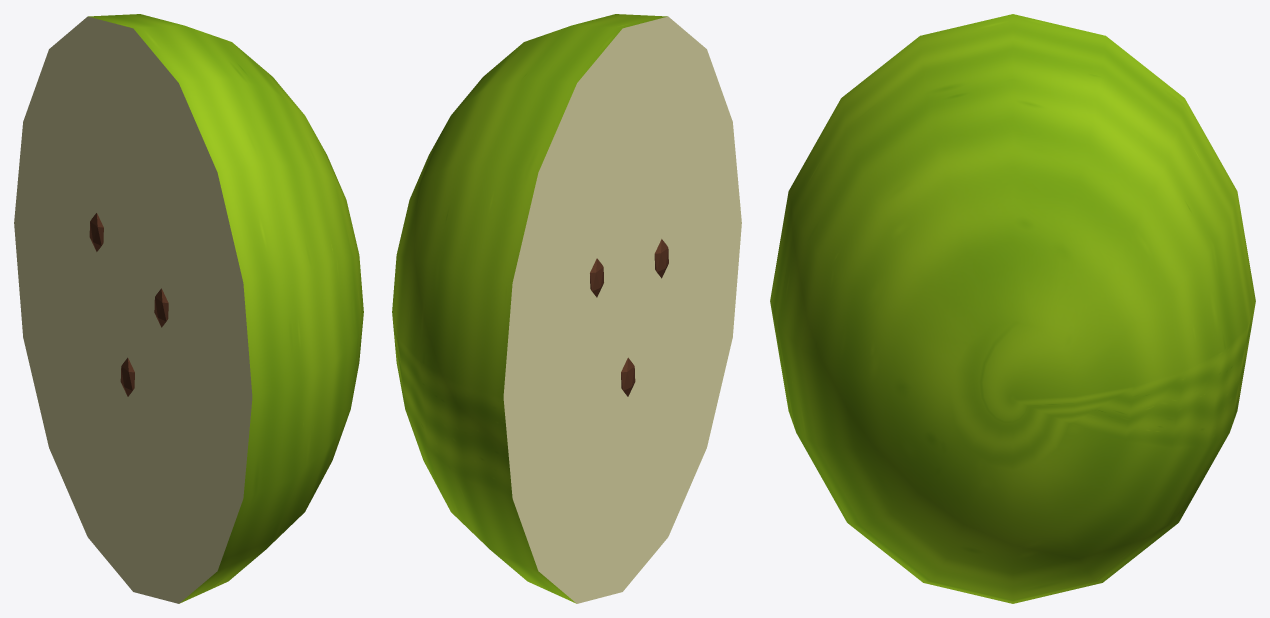
The model's file is pear_half.glb.
3 views of the same model, side by side, from view 1: azimuth 30°, elevation 25°; view 2: azimuth 150°, elevation 25°; view 3: azimuth 270°, elevation 25° (orthographic).
Visible parts, largest first — view 1: PearHalf_Body, PearHalf; view 2: PearHalf_Body, PearHalf; view 3: PearHalf_Body.
Boxes of the visible parts, bbox=[...] form: PearHalf_Body: bbox=[14, 14, 363, 603]; PearHalf: bbox=[89, 213, 168, 396]; PearHalf_Body: bbox=[392, 14, 741, 603]; PearHalf: bbox=[590, 239, 668, 396]; PearHalf_Body: bbox=[770, 14, 1255, 603].
Size of the model in its own units: 0.46 by 1.2 by 0.92.
3 materials, 1 textured.
